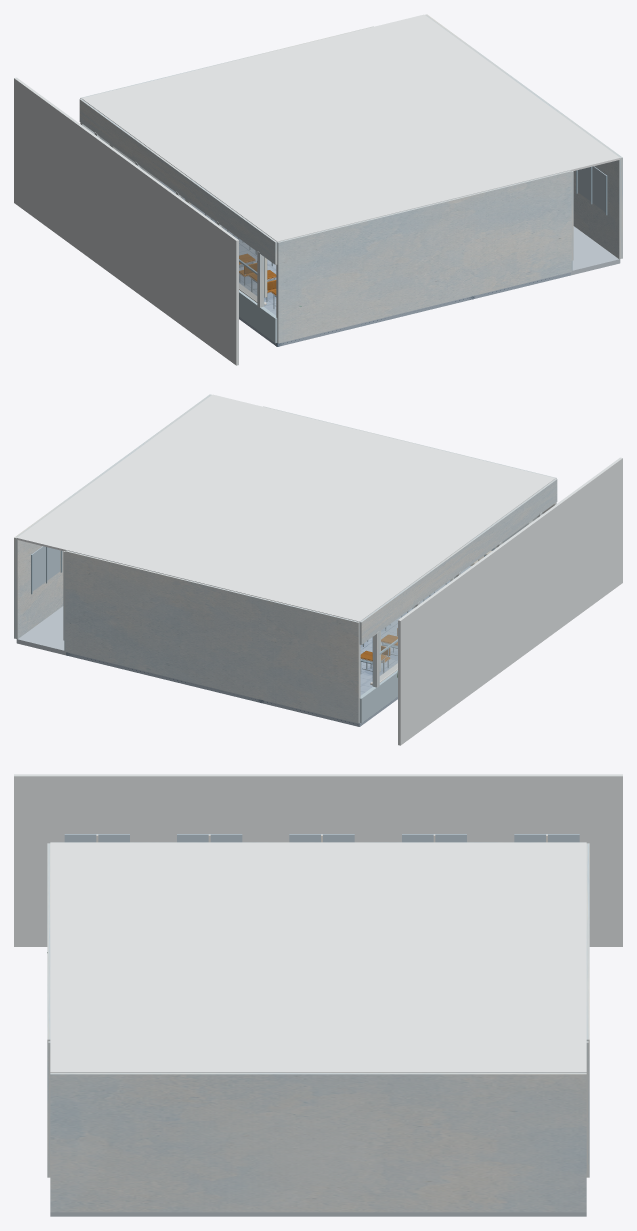
The model's file is school-classroom-3d.glb.
The picture shows the model from 3 angles, top to bottom: view 1: azimuth 30°, elevation 25°; view 2: azimuth 150°, elevation 25°; view 3: azimuth 270°, elevation 25°; orthographic projection. The views are drawn at different scales.
Visible parts, largest first — view 1: Classroom | MToon | matte ceiling, Classroom | MToon | pale blue plaster, Exterior school wing, Continuous ceramic classroom floor, Hallway blue stone floor, Classroom | MToon | daylight glass, Classroom | MToon | porcelain wainscot, Classroom | MToon | neighboring school windows, Classroom | MToon | sunlit honey wood; view 2: Classroom | MToon | matte ceiling, Classroom | MToon | pale blue plaster, Exterior school wing, Continuous ceramic classroom floor, Hallway blue stone floor, Classroom | MToon | daylight glass, Classroom | MToon | porcelain wainscot, Classroom | MToon | neighboring school windows; view 3: Classroom | MToon | matte ceiling, Classroom | MToon | pale blue plaster, Exterior school wing, Classroom | MToon | neighboring school windows, Hallway blue stone floor.
Part boxes in pixels (left/top/right/bottom): Classroom | MToon | matte ceiling: left=81, top=14, right=620, bottom=241; Classroom | MToon | pale blue plaster: left=79, top=14, right=622, bottom=343; Exterior school wing: left=14, top=77, right=238, bottom=365; Continuous ceramic classroom floor: left=159, top=181, right=570, bottom=346; Hallway blue stone floor: left=570, top=226, right=620, bottom=275; Classroom | MToon | daylight glass: left=99, top=137, right=257, bottom=301; Classroom | MToon | porcelain wainscot: left=239, top=260, right=572, bottom=343; Classroom | MToon | neighboring school windows: left=578, top=166, right=605, bottom=212; Classroom | MToon | sunlit honey wood: left=239, top=253, right=276, bottom=294; Classroom | MToon | matte ceiling: left=16, top=394, right=555, bottom=621; Classroom | MToon | pale blue plaster: left=14, top=394, right=557, bottom=723; Exterior school wing: left=398, top=457, right=622, bottom=745; Continuous ceramic classroom floor: left=66, top=566, right=471, bottom=726; Hallway blue stone floor: left=16, top=606, right=66, bottom=655; Classroom | MToon | daylight glass: left=379, top=517, right=537, bottom=681; Classroom | MToon | porcelain wainscot: left=64, top=640, right=397, bottom=723; Classroom | MToon | neighboring school windows: left=32, top=546, right=59, bottom=590; Classroom | MToon | matte ceiling: left=50, top=842, right=586, bottom=1072; Classroom | MToon | pale blue plaster: left=47, top=842, right=589, bottom=1212; Exterior school wing: left=14, top=774, right=622, bottom=946; Classroom | MToon | neighboring school windows: left=64, top=834, right=579, bottom=842; Hallway blue stone floor: left=50, top=1212, right=586, bottom=1216.
Size of the model in its own units: 17.44 by 5.38 by 16.8.
Materials: 32 (5 with a texture image).
